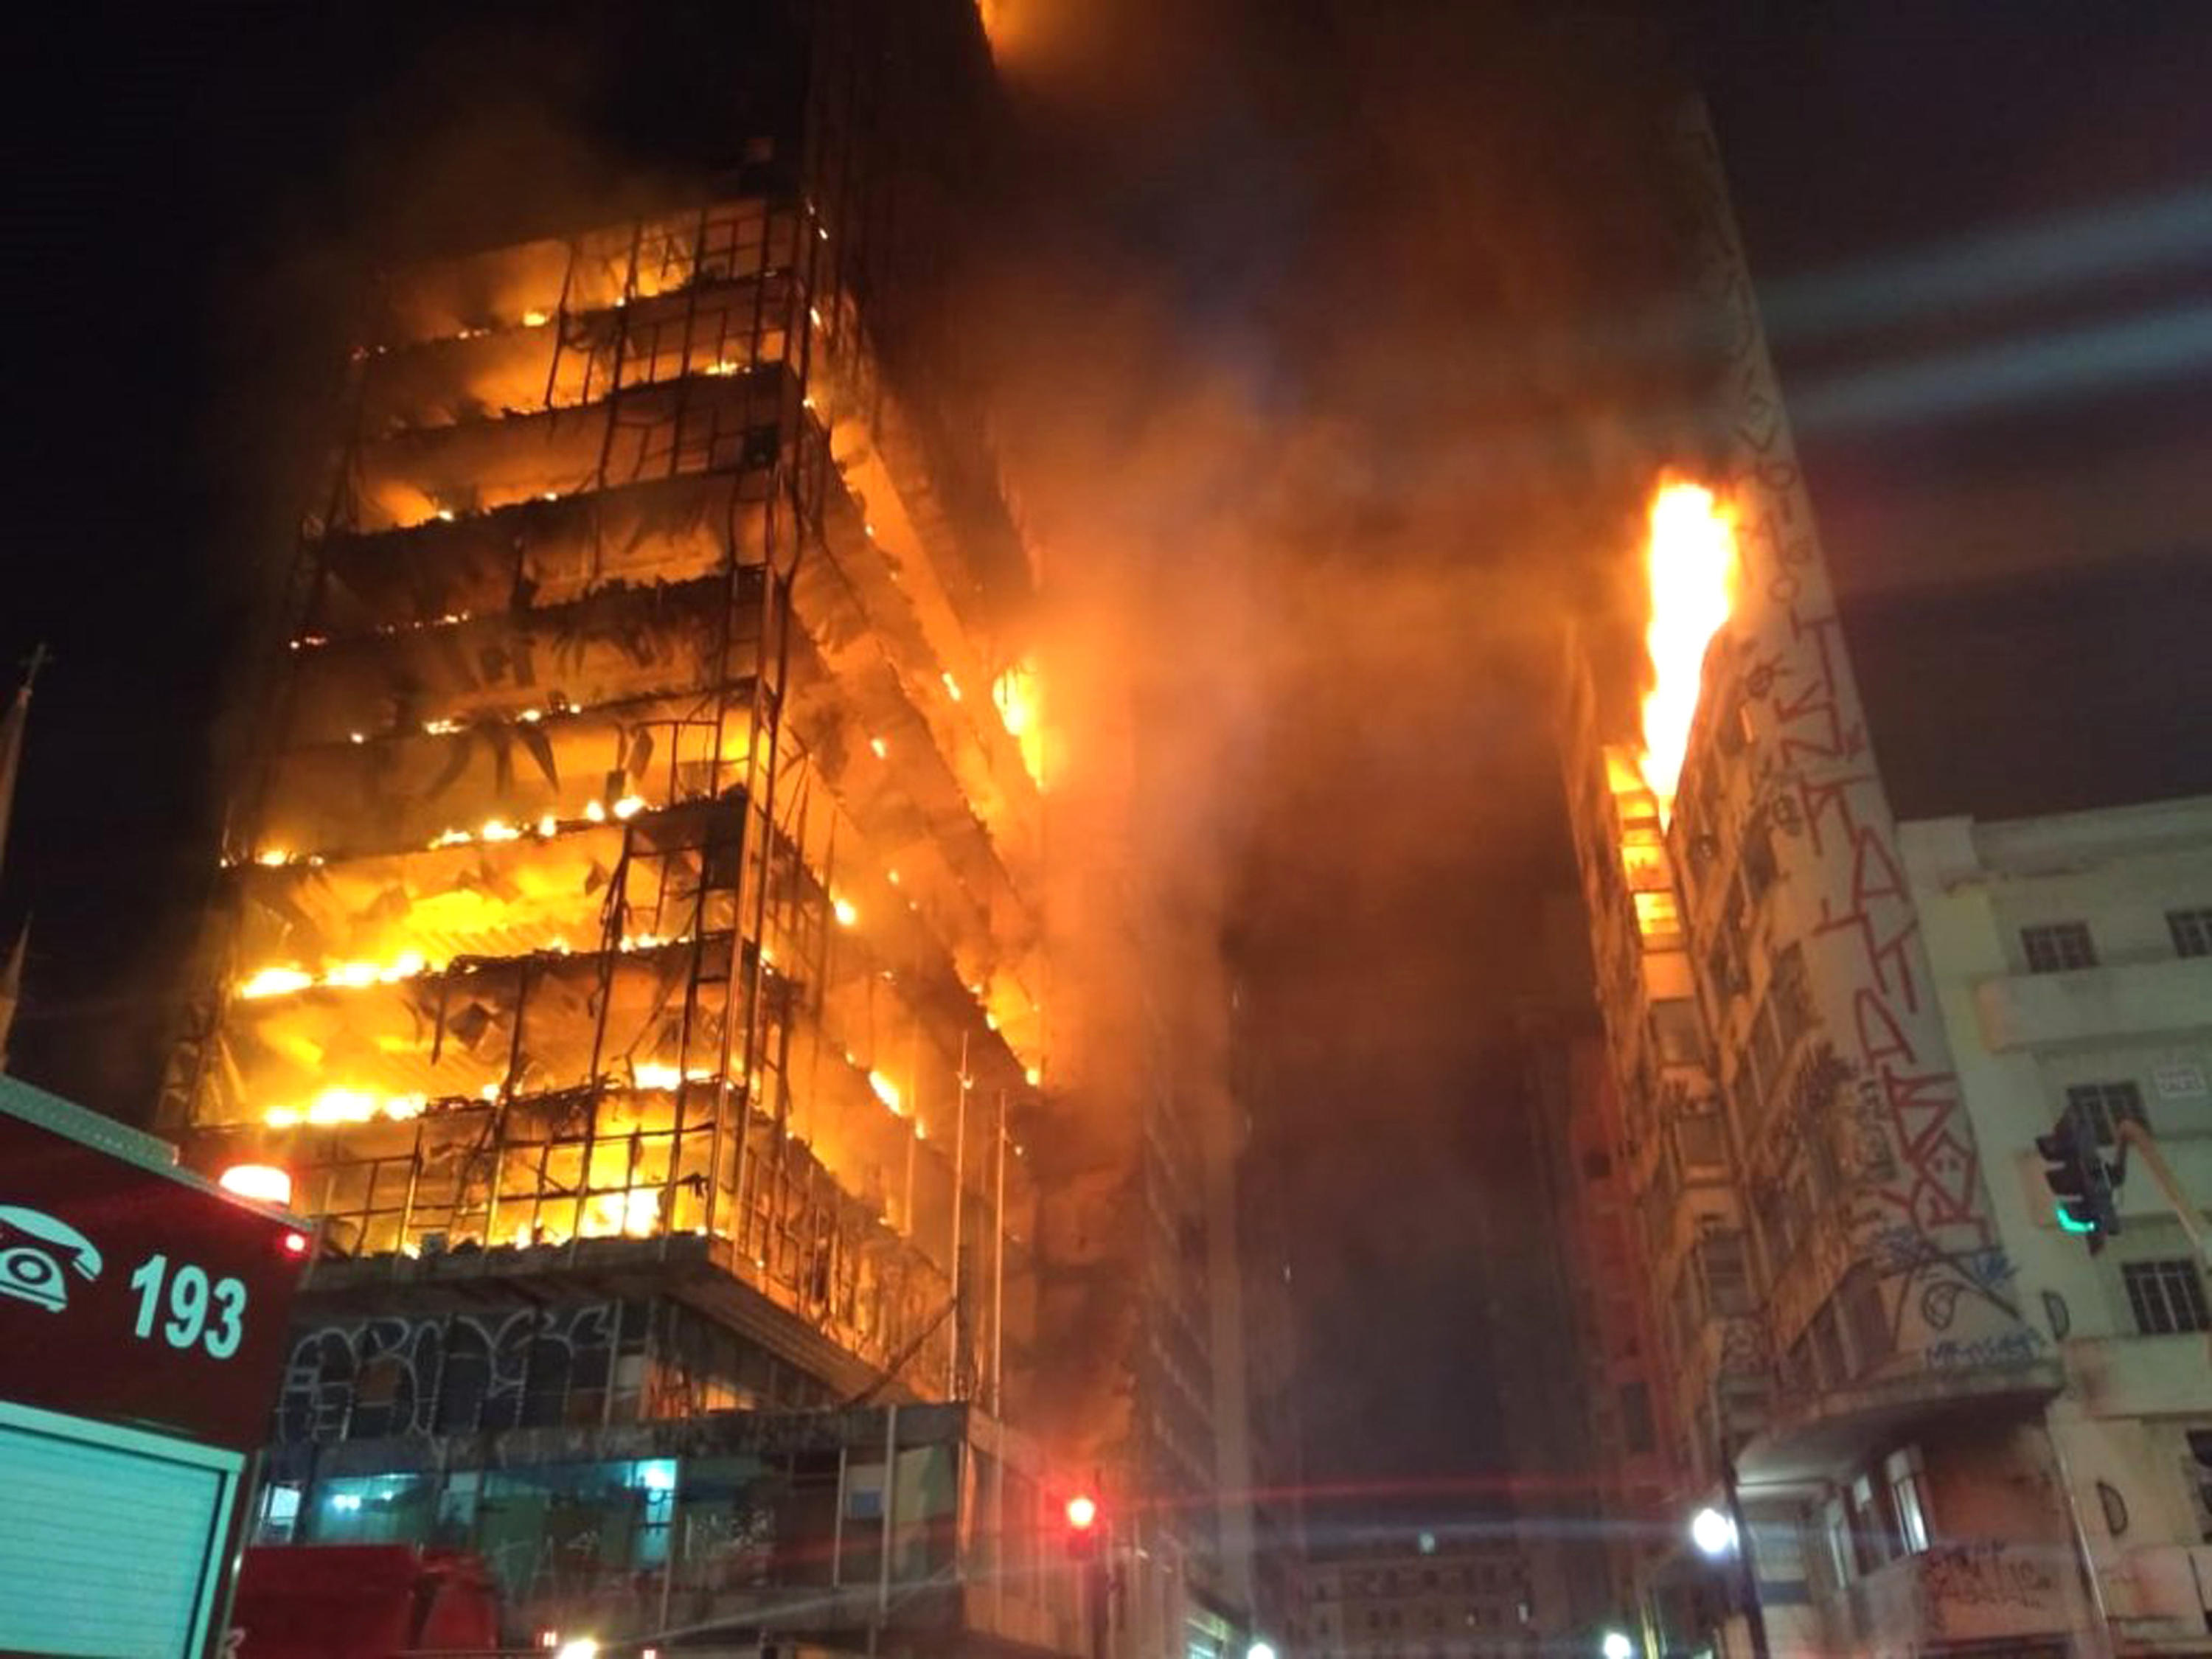Fire: (1038, 416, 1211, 657), (1615, 479, 1750, 636), (221, 1063, 423, 1127), (1616, 662, 1698, 802), (218, 943, 441, 990), (982, 652, 1054, 789), (577, 1162, 669, 1234), (491, 275, 625, 315), (362, 477, 439, 535), (810, 861, 864, 936), (448, 800, 524, 842)
